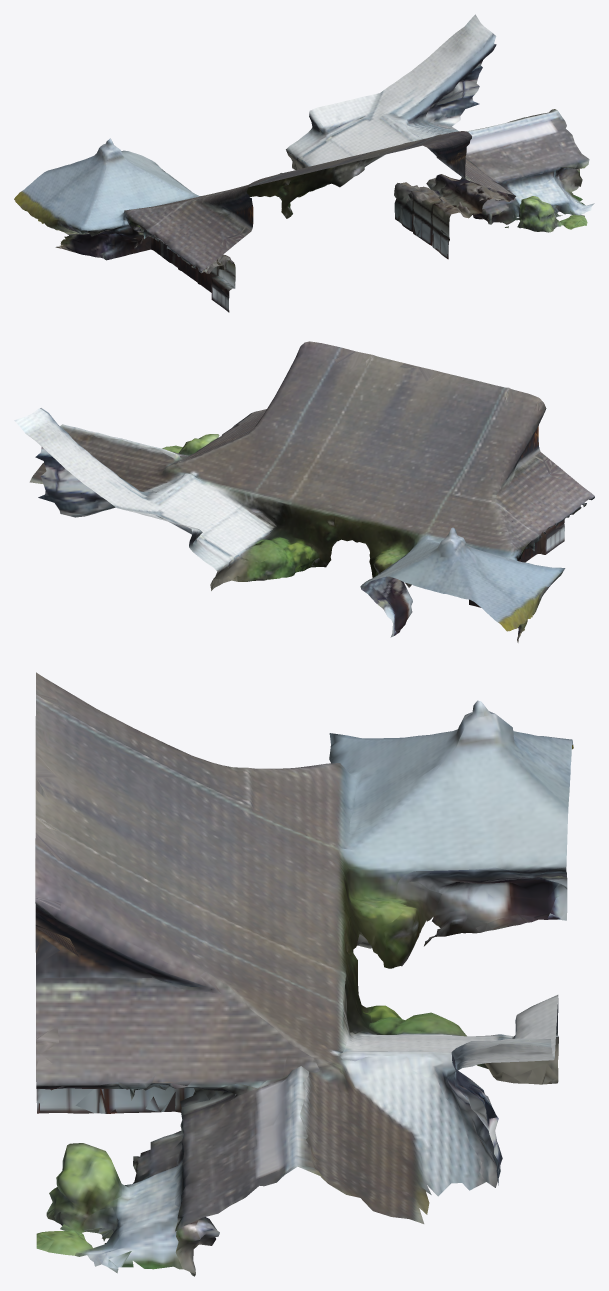
File: kangaku_unity_roof_south_only.FBX
3 views of the same model, one above another, from view 1: azimuth 30°, elevation 25°; view 2: azimuth 150°, elevation 25°; view 3: azimuth 270°, elevation 25° (orthographic). The views are drawn at different scales.
Visible parts, largest first — view 1: exterior1_top_south; view 2: exterior1_top_south; view 3: exterior1_top_south.
Boxes of the visible parts, bbox=[...] form: exterior1_top_south: bbox=[14, 14, 594, 312]; exterior1_top_south: bbox=[14, 341, 594, 642]; exterior1_top_south: bbox=[35, 672, 573, 1276].
Size of the model in its own units: 29.33 by 7.49 by 14.27.
Materials: 1 (1 with a texture image).
